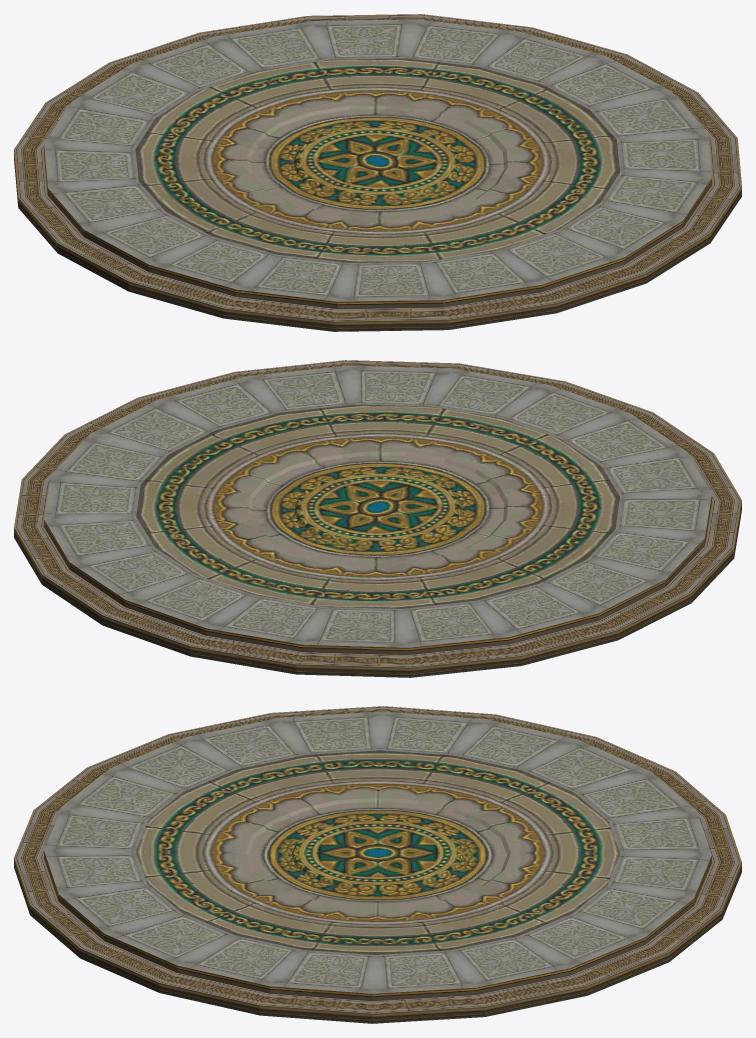
File: environment_common_xiaohuatan_001_b.FBX
3 renders of one model, top to bottom at view 1: azimuth 30°, elevation 25°; view 2: azimuth 150°, elevation 25°; view 3: azimuth 270°, elevation 25°, orthographic.
Visible parts, largest first — view 1: Yland1_tz_02 Yland1; view 2: Yland1_tz_02 Yland1; view 3: Yland1_tz_02 Yland1.
Part boxes in pixels (bbox=[...]): Yland1_tz_02 Yland1: bbox=[14, 14, 741, 331]; Yland1_tz_02 Yland1: bbox=[14, 360, 741, 677]; Yland1_tz_02 Yland1: bbox=[14, 706, 741, 1023].
Bounding box in the file's own units: 24.01 × 0.6295 × 24.01.
1 material, 1 textured.
